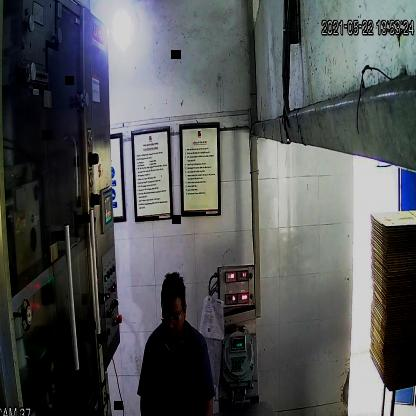goggles: (158, 304, 186, 332)
